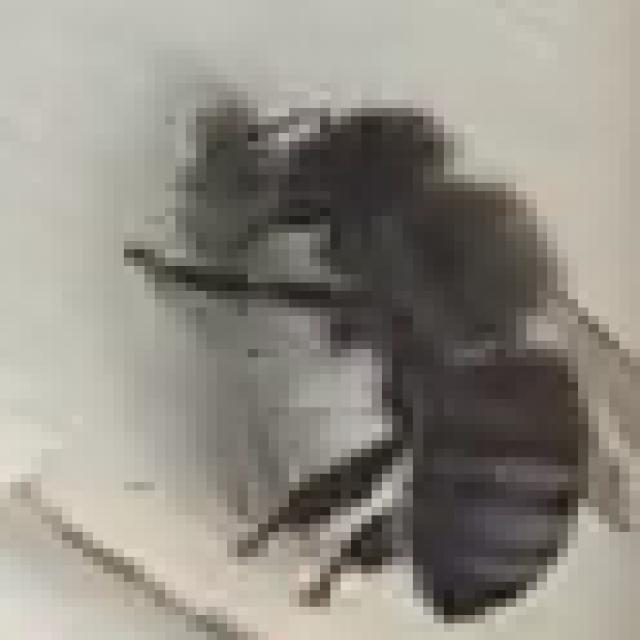honeybee: (162, 102, 634, 618)
